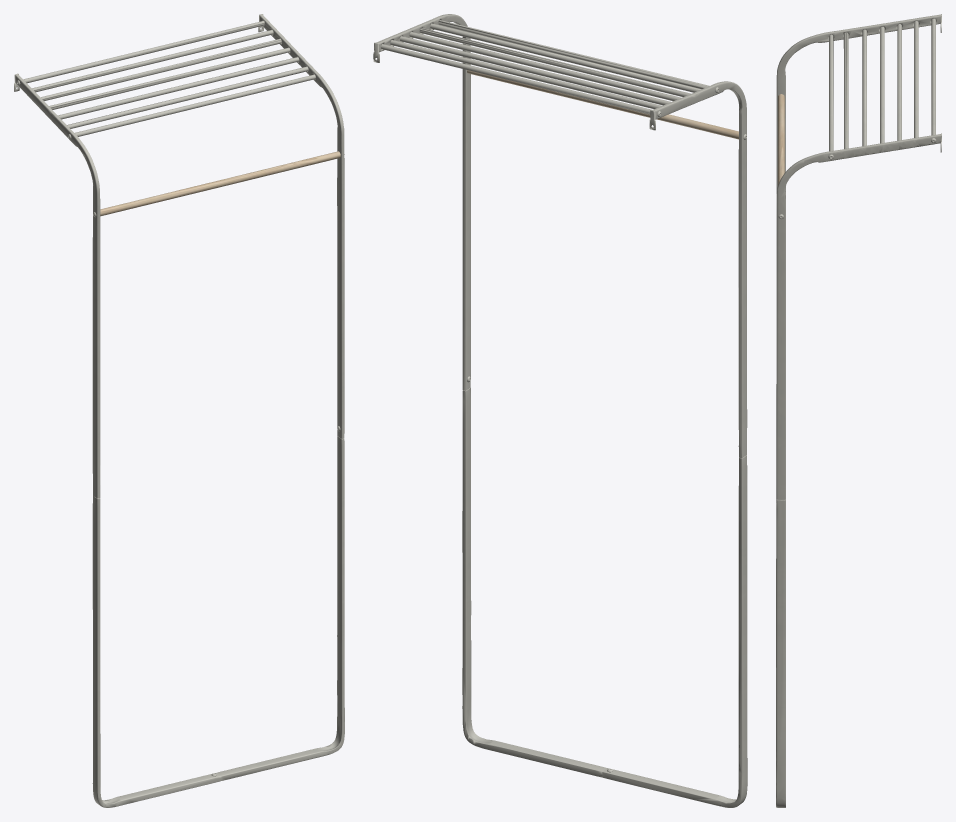
The model's file is B07TWQSZL4.glb.
3 renders of one model, left to right at view 1: azimuth 30°, elevation 25°; view 2: azimuth 150°, elevation 25°; view 3: azimuth 270°, elevation 25°, orthographic. The views are drawn at different scales.
Visible parts, largest first — view 1: RootNode; view 2: RootNode; view 3: RootNode.
Part boxes in pixels (x1,y1,x2,y2): RootNode: (14, 14, 344, 807); RootNode: (373, 14, 747, 807); RootNode: (776, 14, 941, 807).
Size of the model in its own units: 0.609 by 1.57 by 0.3489.
1 material, 1 textured.
